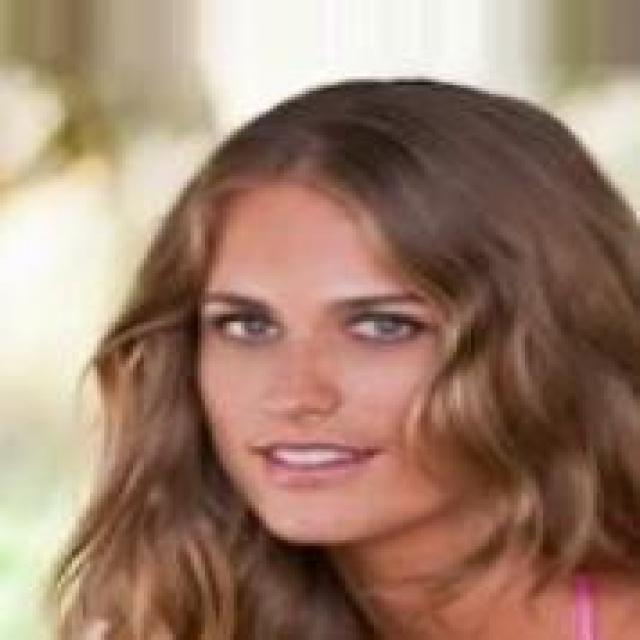bareface: (185, 100, 590, 534)
